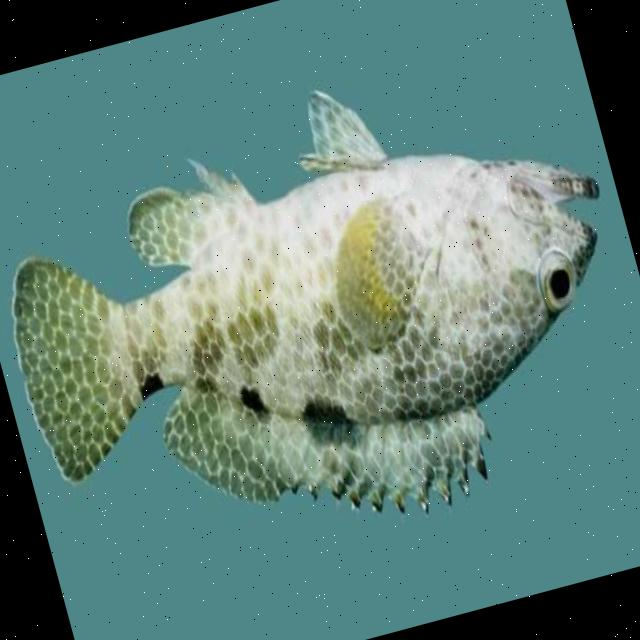ikan: (0, 24, 640, 611)
